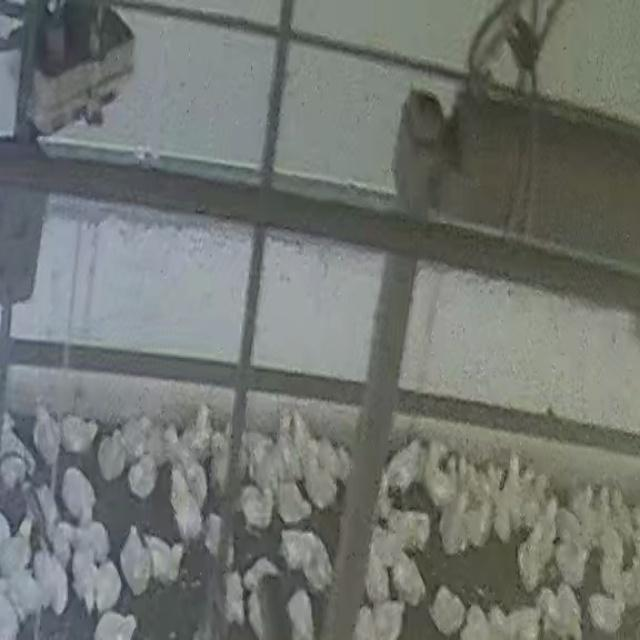chicken: (278, 527, 334, 593), (382, 436, 429, 503), (4, 558, 48, 622), (32, 546, 70, 618), (536, 582, 583, 639), (119, 523, 153, 598), (388, 546, 429, 607), (422, 443, 459, 508), (301, 452, 341, 512), (60, 466, 98, 525), (438, 490, 473, 553), (88, 555, 124, 615), (68, 518, 111, 568), (32, 480, 64, 546), (387, 508, 432, 554), (142, 534, 178, 590), (238, 483, 276, 533), (429, 586, 466, 636), (221, 566, 249, 632), (275, 480, 315, 526), (30, 407, 61, 466), (244, 554, 284, 598), (285, 588, 318, 640), (586, 590, 624, 635), (497, 602, 541, 640), (96, 433, 129, 483), (518, 529, 544, 592), (368, 525, 401, 573), (364, 549, 391, 607), (70, 543, 94, 608), (182, 453, 209, 510), (370, 598, 406, 640), (466, 498, 494, 552), (598, 548, 627, 600), (0, 532, 32, 578), (168, 467, 192, 528), (127, 454, 158, 501), (208, 428, 230, 492), (60, 417, 97, 454), (246, 588, 272, 640), (92, 610, 138, 639), (507, 453, 526, 522), (458, 602, 492, 640), (534, 498, 559, 548), (50, 520, 75, 569), (190, 401, 212, 456), (0, 452, 30, 492), (293, 412, 319, 457), (0, 592, 24, 640), (559, 533, 582, 583), (527, 474, 552, 519), (274, 427, 298, 473), (374, 464, 394, 516), (614, 564, 638, 607), (472, 463, 494, 509), (124, 411, 146, 456), (573, 488, 595, 533), (486, 604, 514, 639), (252, 442, 275, 484), (204, 512, 224, 560), (351, 604, 377, 640), (494, 491, 512, 543), (332, 443, 353, 486), (611, 488, 634, 527), (603, 526, 626, 564), (166, 426, 185, 464), (149, 424, 162, 464), (598, 488, 609, 528)
